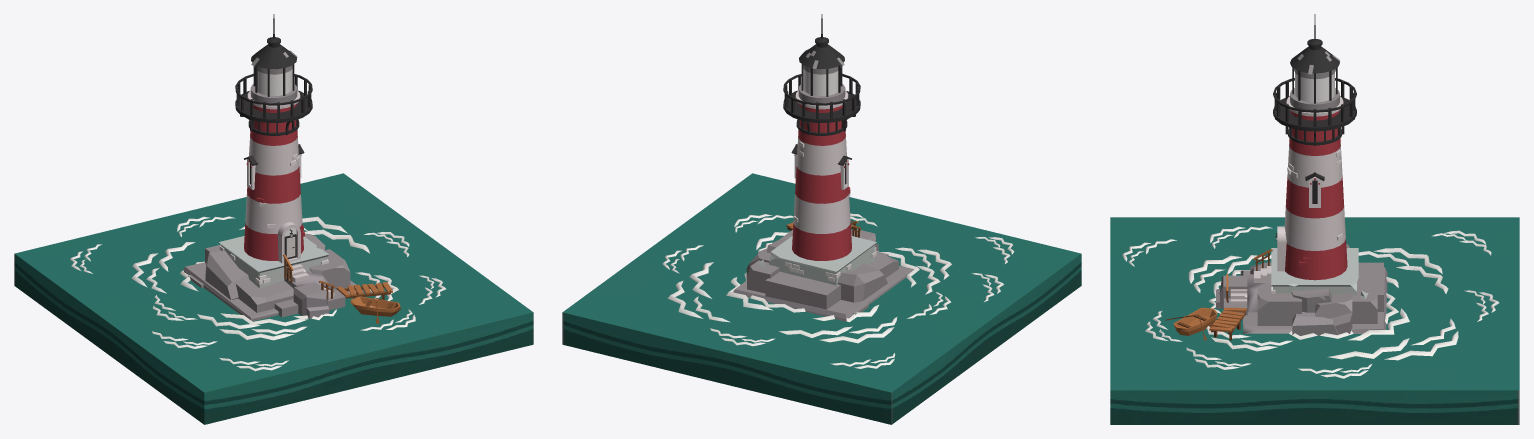
Rendered from 1O6BWfUB6ta.glb.
3 views of the same model, side by side, from view 1: azimuth 30°, elevation 25°; view 2: azimuth 150°, elevation 25°; view 3: azimuth 270°, elevation 25° (orthographic). The views are drawn at different scales.
Parts seen in each view (by area): view 1: Lighthouse; view 2: Lighthouse; view 3: Lighthouse.
Boxes of the visible parts, <box> form: Lighthouse: <box>14,14,533,424</box>; Lighthouse: <box>562,14,1081,424</box>; Lighthouse: <box>1110,14,1519,424</box>.
Bounding box in the file's own units: 1.14 × 1 × 1.14.
1 material, 1 textured.
